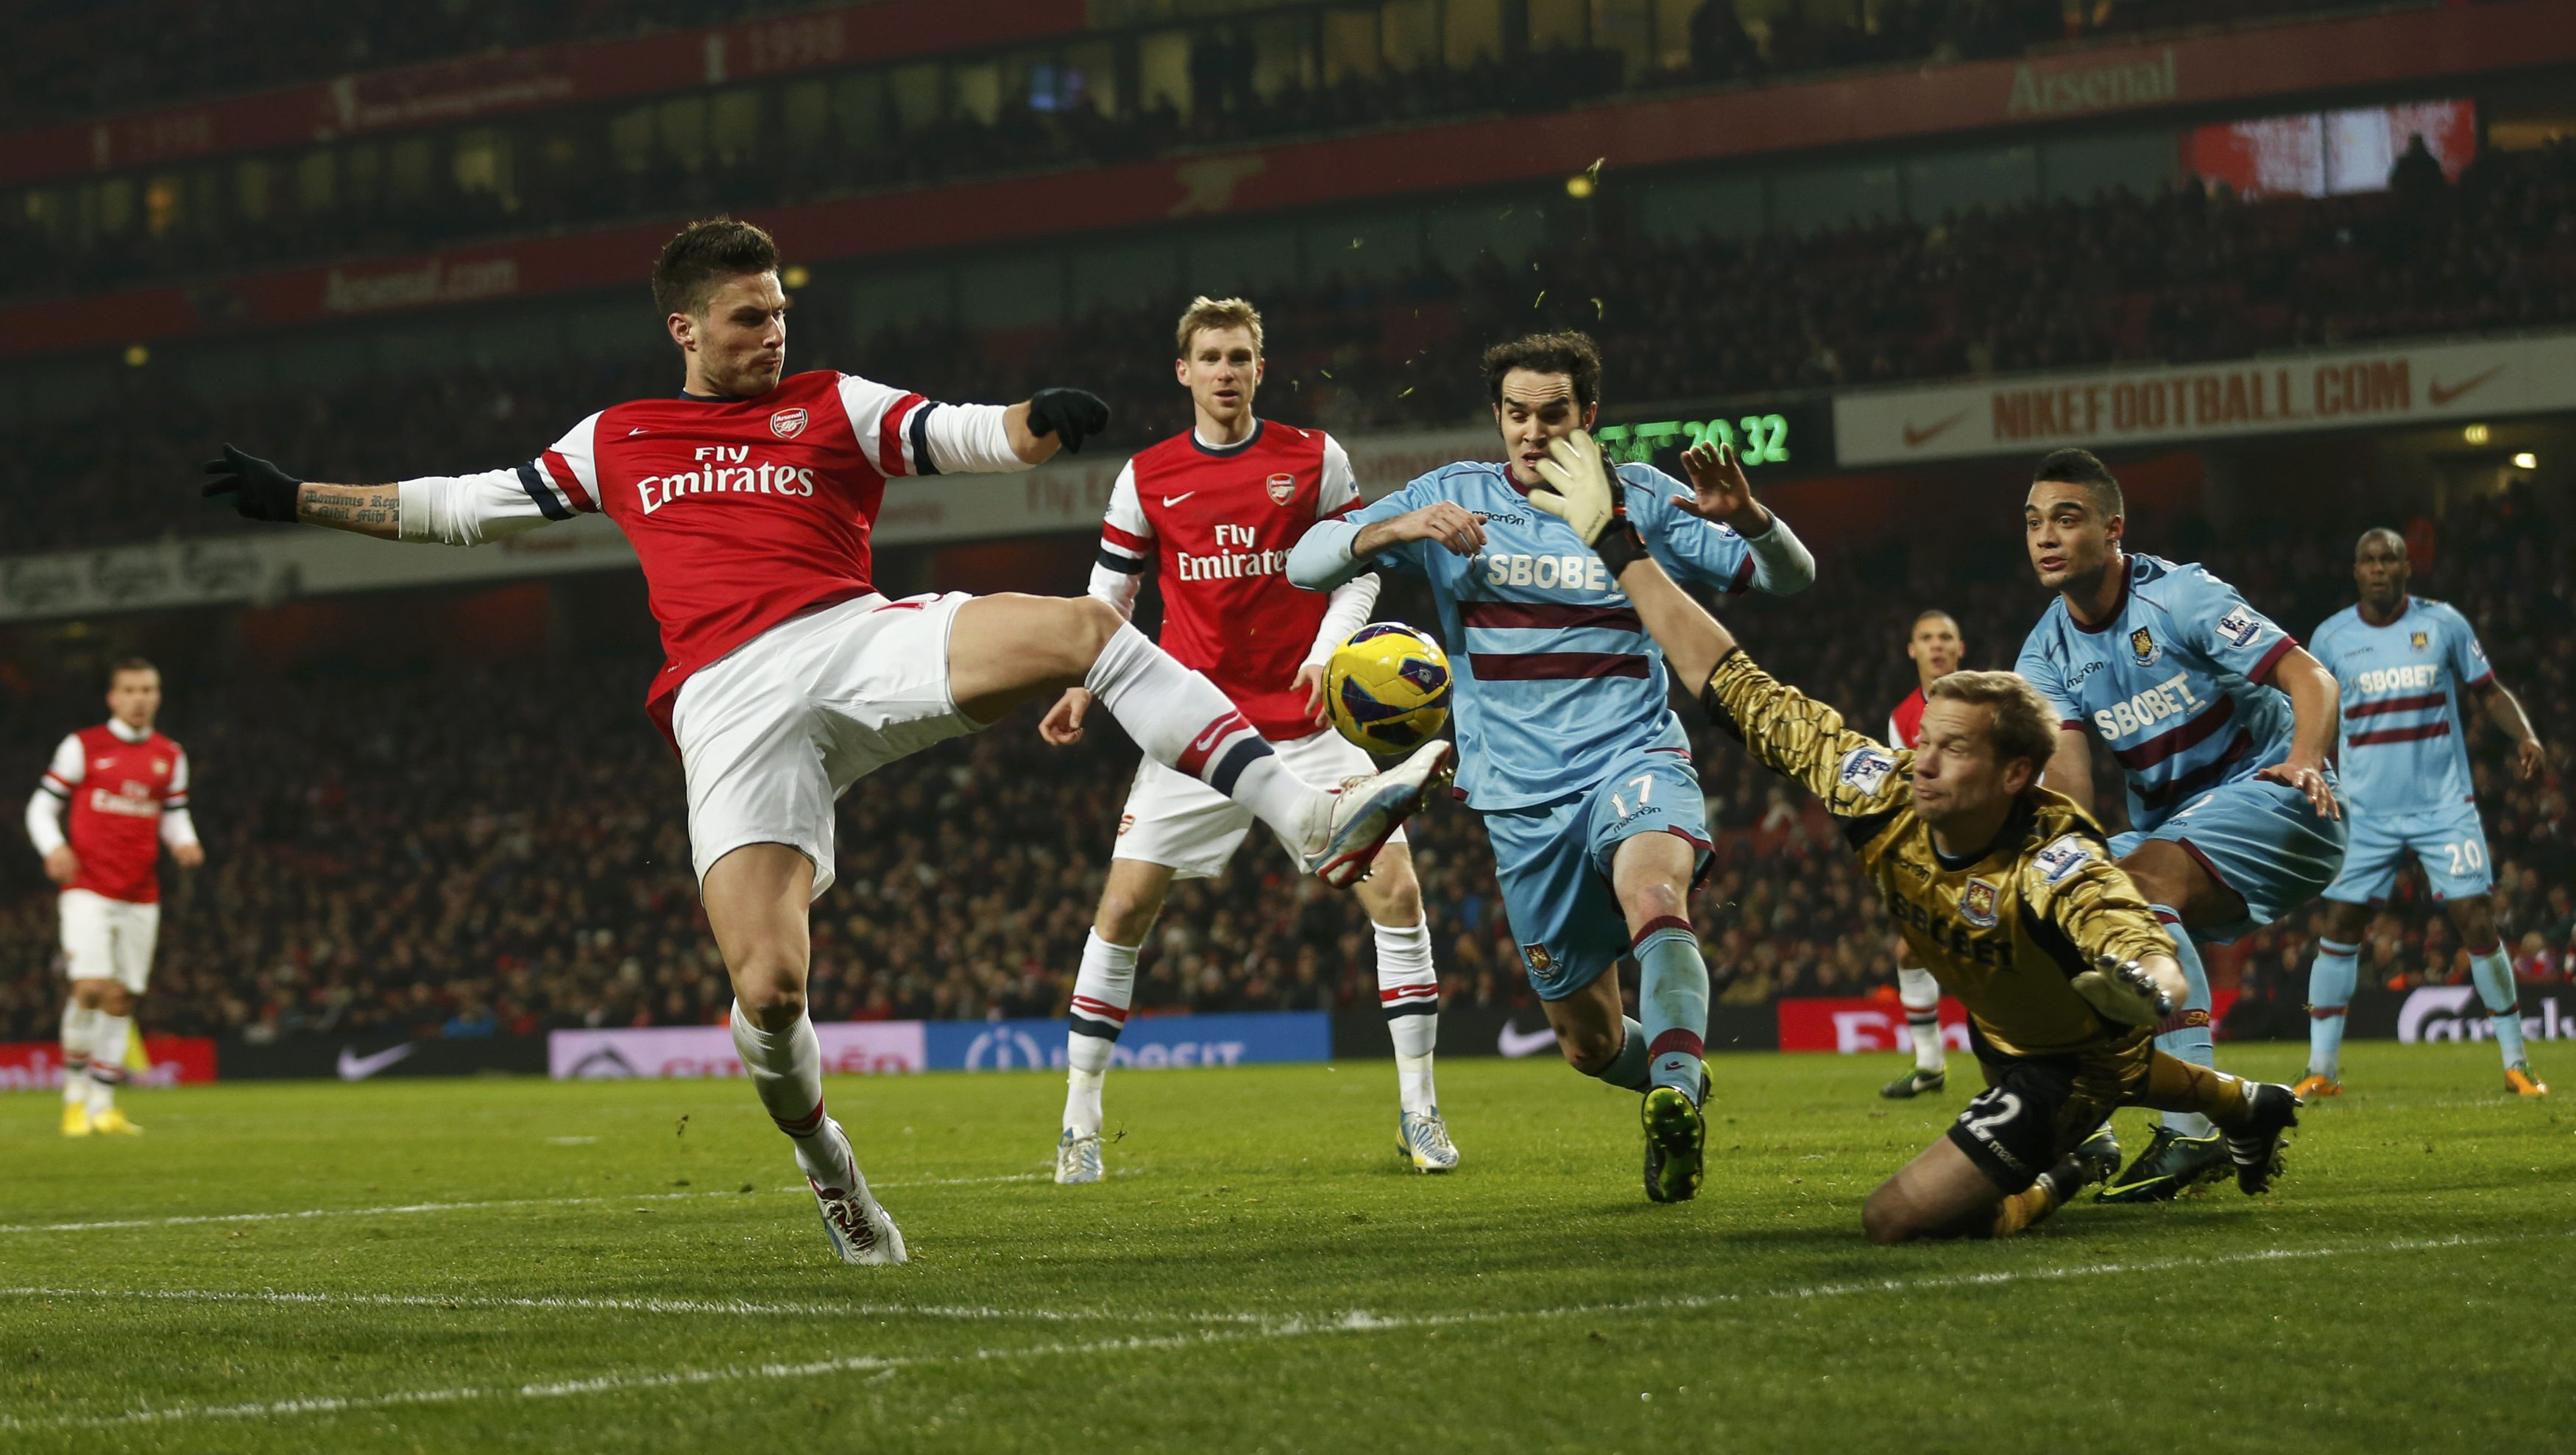soccer player: (212, 201, 1461, 1253), (1537, 438, 2306, 1231), (1292, 329, 1864, 1226), (1063, 288, 1463, 1190), (2009, 433, 2325, 1084), (2279, 523, 2567, 1125), (2, 659, 218, 1150)
soccerball: (1319, 620, 1461, 765)
